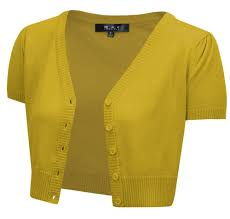S_cardigan sweater: (3, 12, 229, 211)
